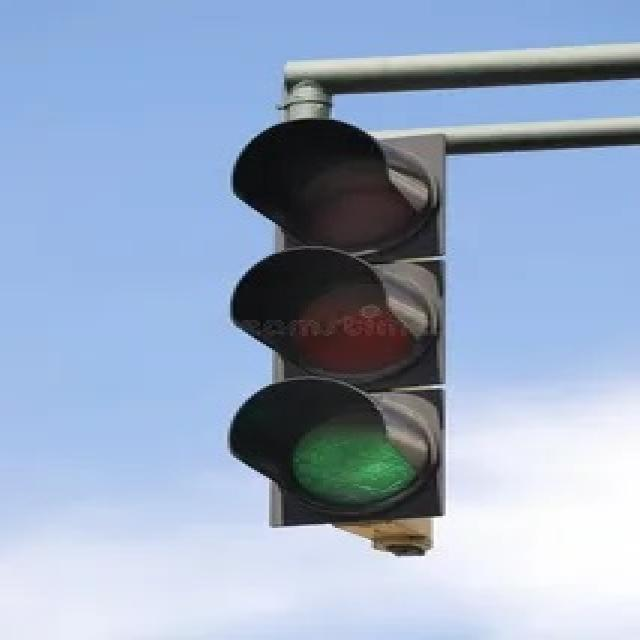yesil: (229, 119, 443, 523)
